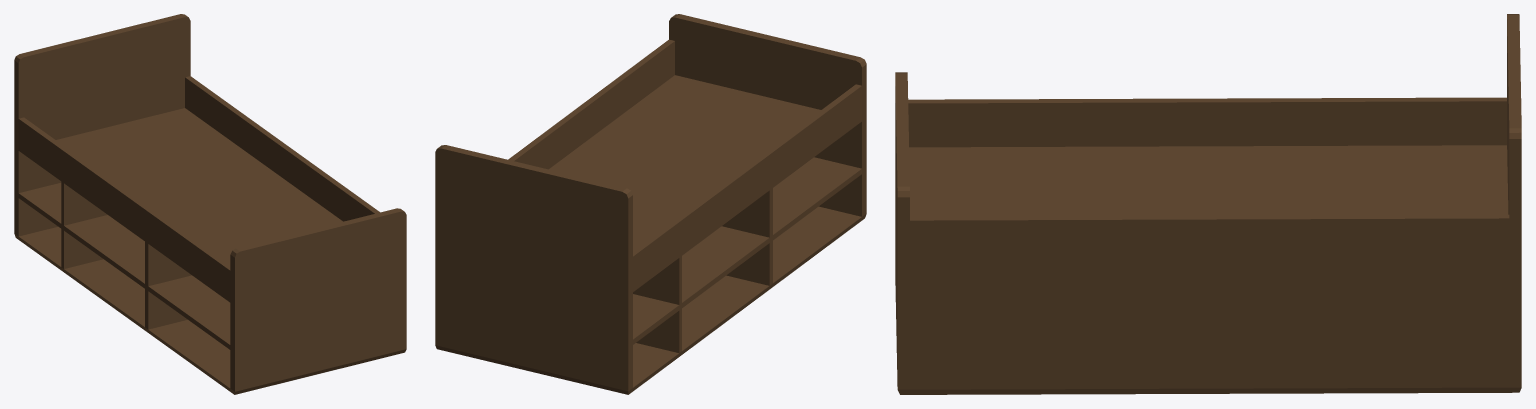
Rendered from bed.fbx.
3 renders of one model, left to right at view 1: azimuth 30°, elevation 25°; view 2: azimuth 150°, elevation 25°; view 3: azimuth 270°, elevation 25°, orthographic. The views are drawn at different scales.
Visible parts, largest first — view 1: Bedframe; view 2: Bedframe; view 3: Bedframe.
Part boxes in pixels (x1=…): Bedframe: x1=14, y1=14, x2=406, y2=394; Bedframe: x1=435, y1=14, x2=866, y2=394; Bedframe: x1=895, y1=14, x2=1521, y2=394.
Size of the model in its own units: 93.36 by 92.36 by 201.
